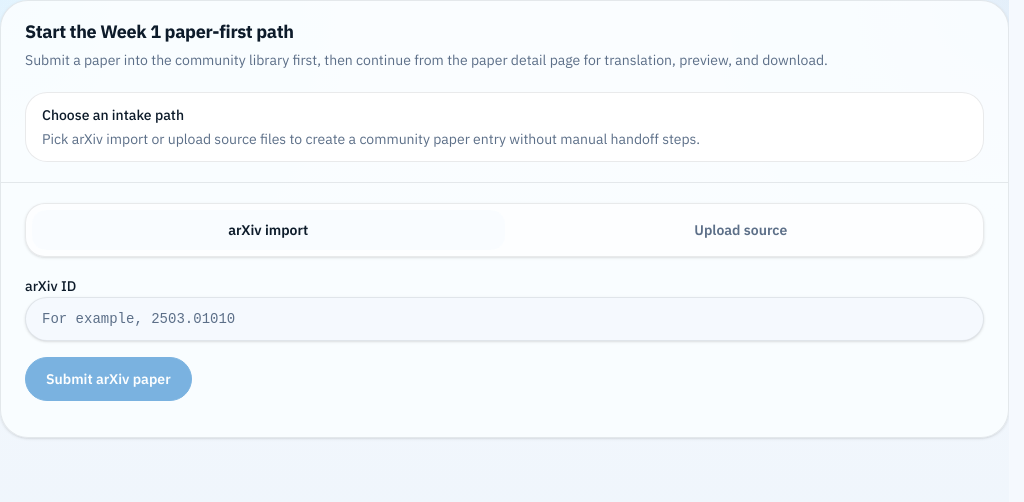
CommunitySubmitPanel › renders an inline error and allows retry after a failed submit
The width and height of the screenshot is (1024, 502).
Step 1. Type "2503.01010" into the field labelled "arXiv ID" → (504, 318), box [25,296,984,340]
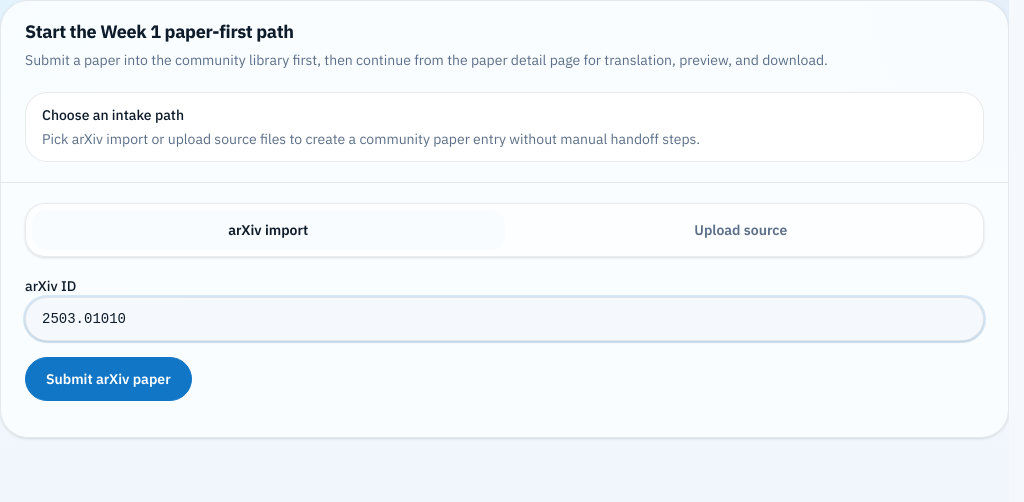
Step 2. Click the button "Submit arXiv paper" → (108, 378), box [25,356,192,400]
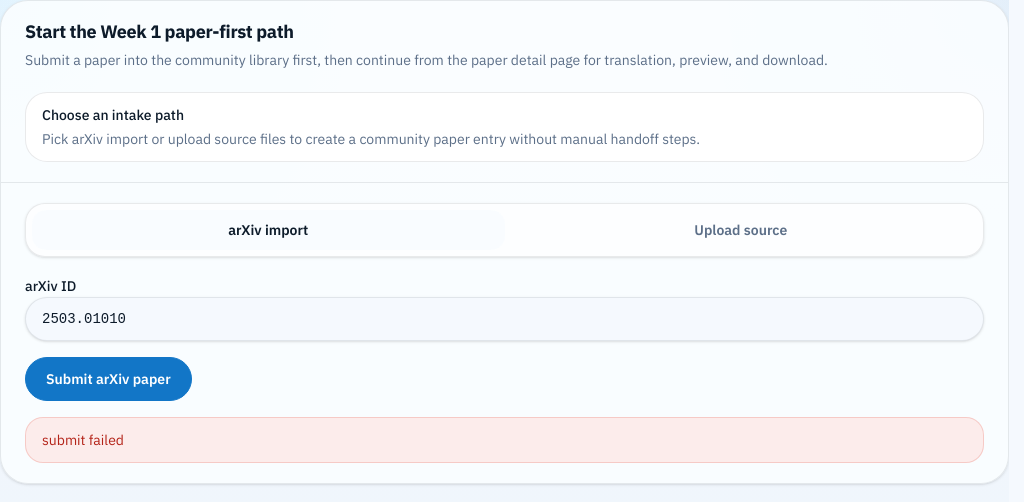
Now the button "Submit arXiv paper" is enabled, box [25,356,192,400]
Now the text "submit failed" is shown, box [25,416,984,462]
